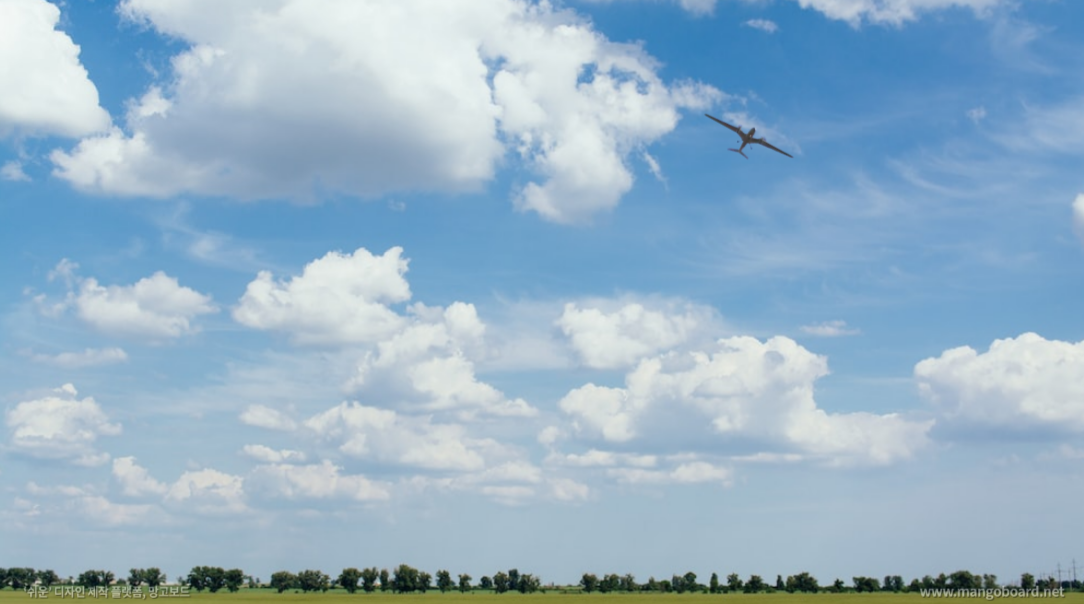military drone: (704, 113, 793, 159)
